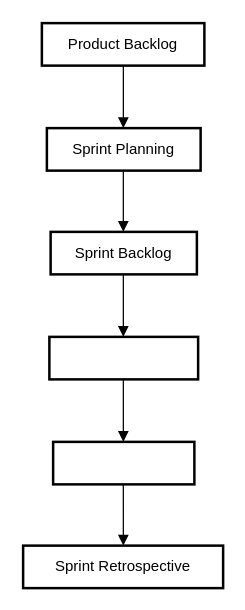
The diagram is 245 pixels wide and 610 high, and some of its shapes have lost their labels. Each missing label, with the centre of its shape:
"Daily Stand-up" belongs at [123,357].
"Sprint Review" belongs at [123,462].
